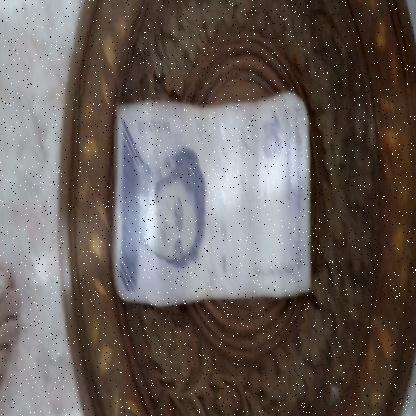ten-front-vef: (115, 93, 310, 306)
